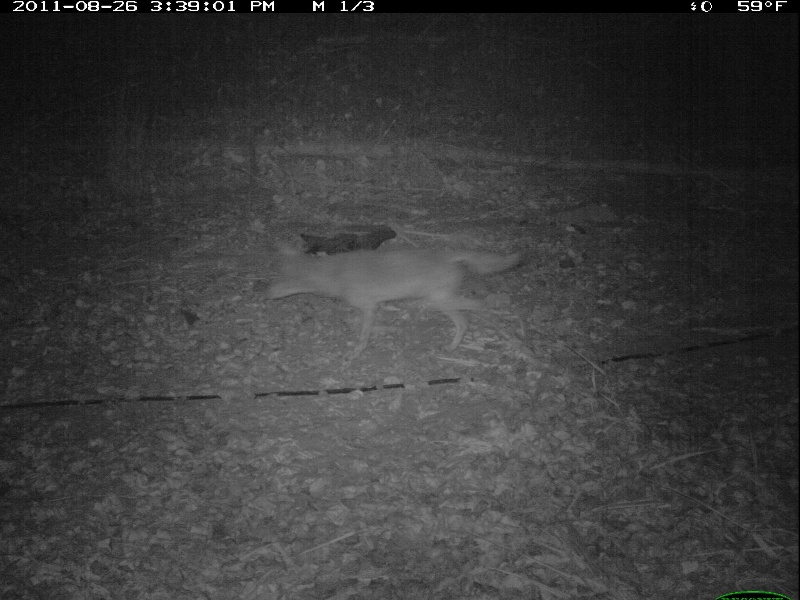coyote: (265, 237, 531, 363)
